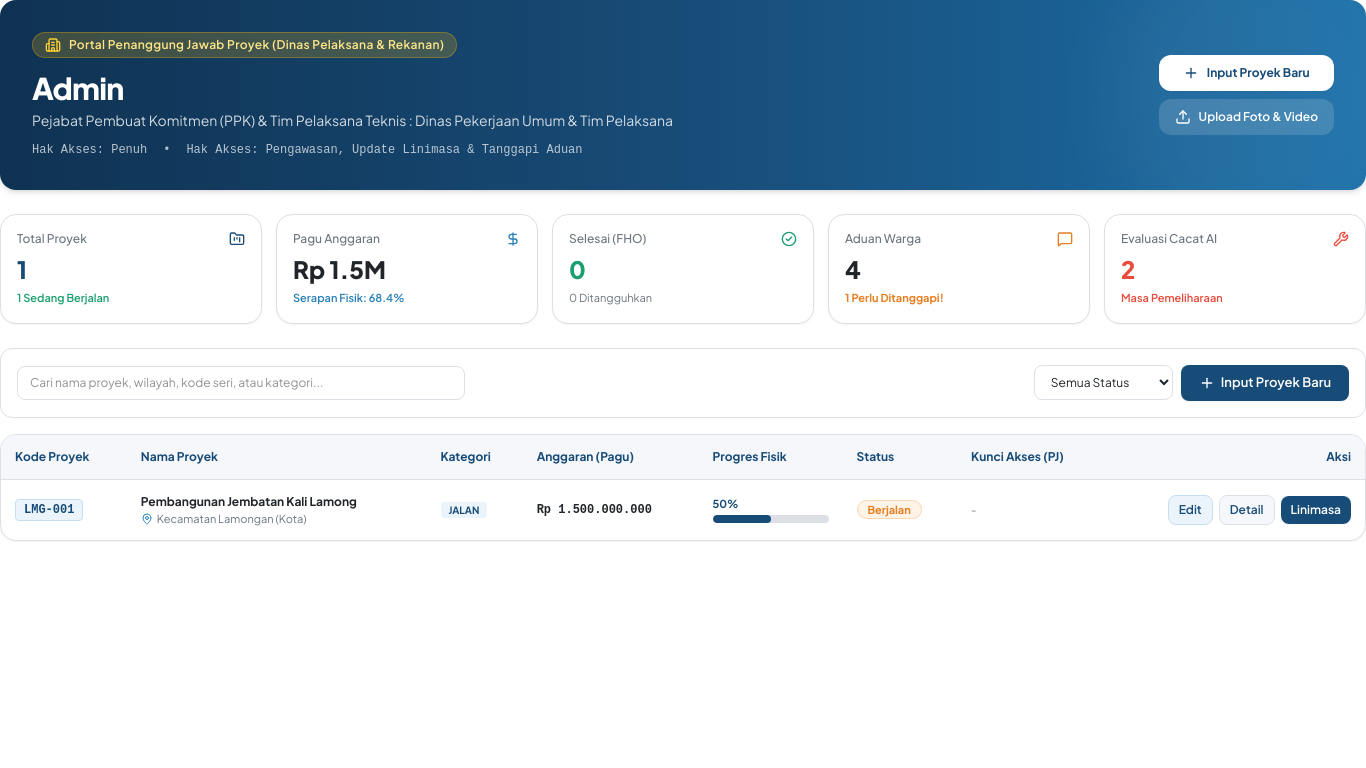
Scenario: AdminDinasDashboard Project Edit Validation › rejects submit on frontend when progress is decreased without valid reason (< 10 chars)
Click the button "Edit".
click(1190, 510)  # box 1168,495 -> 1213,525
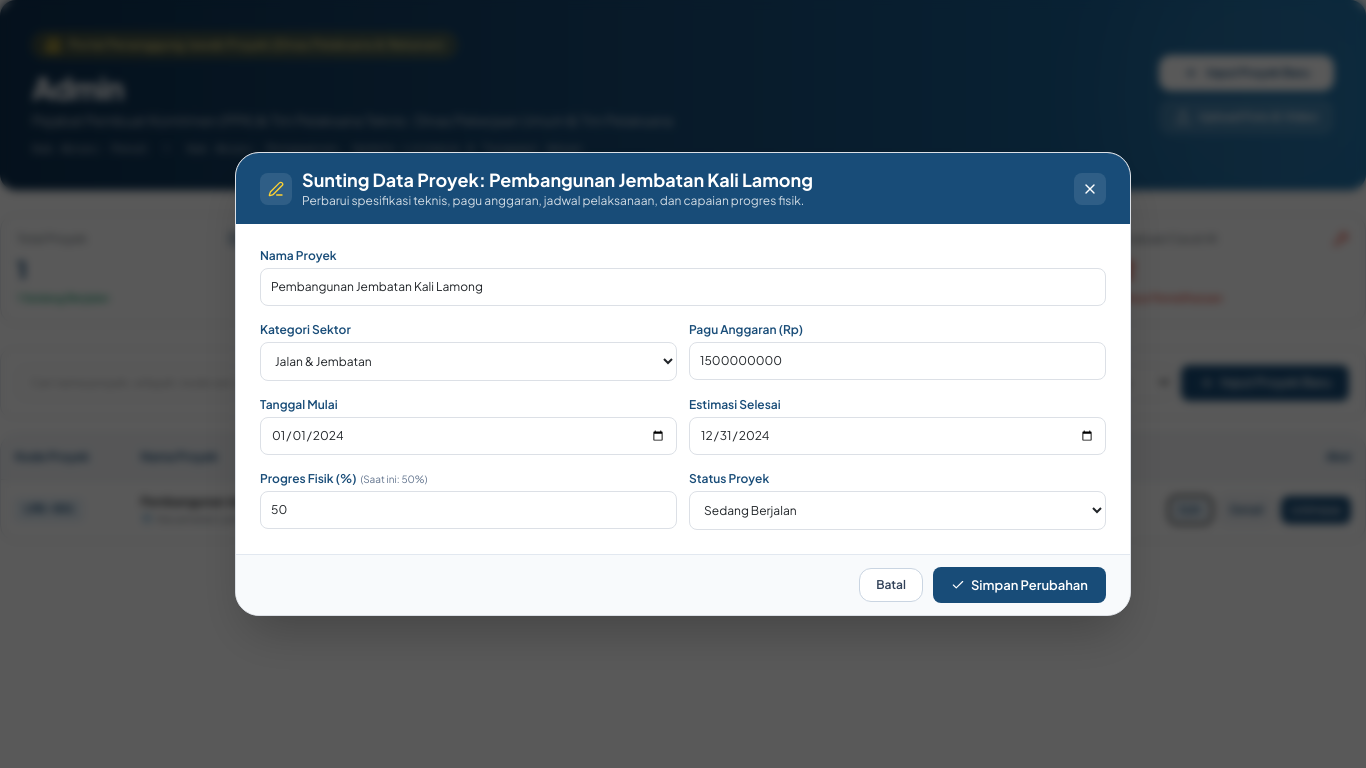
Clear the number field labelled "Progres Fisik (%)(Saat ini: 50%)" at (468, 510), box 260,491 -> 677,529
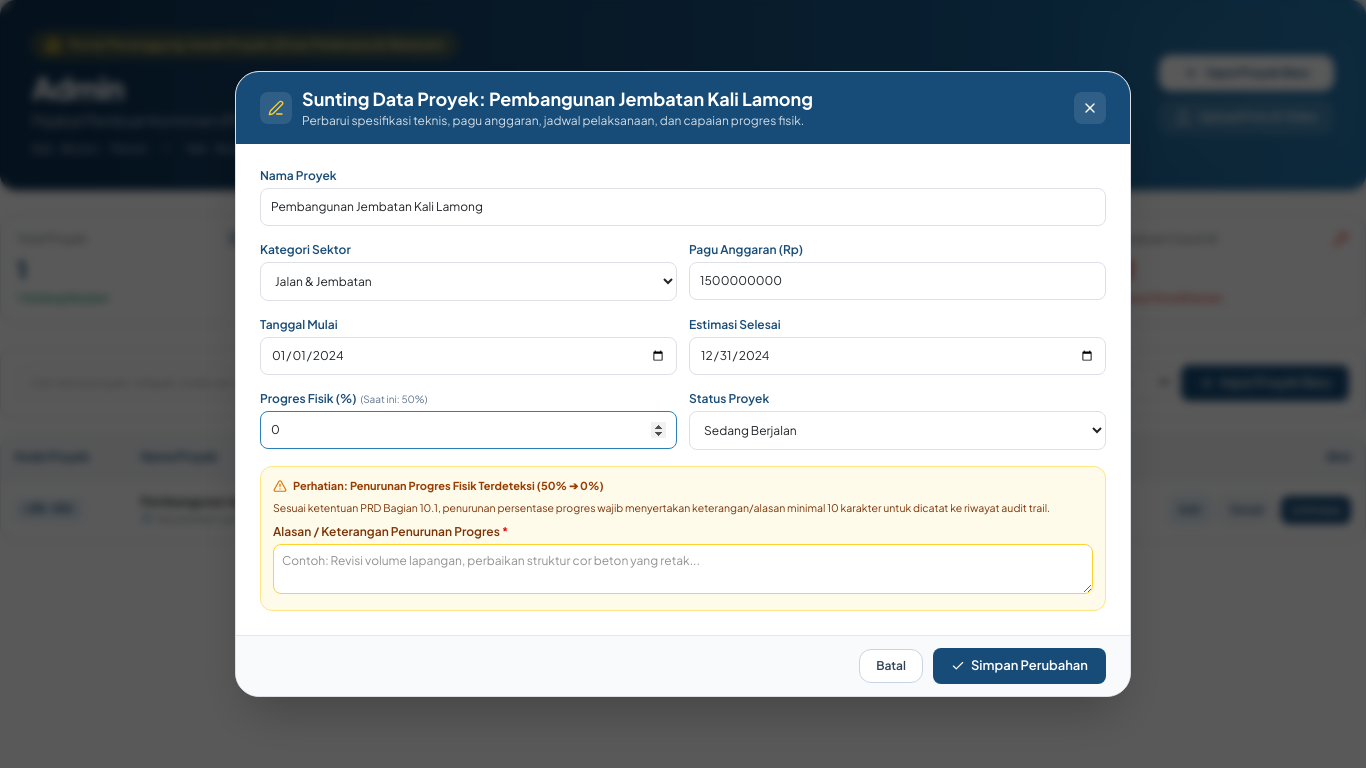
Type "35" into the number field labelled "Progres Fisik (%)(Saat ini: 50%)".
click(468, 430); type("35")  # box 260,411 -> 677,449
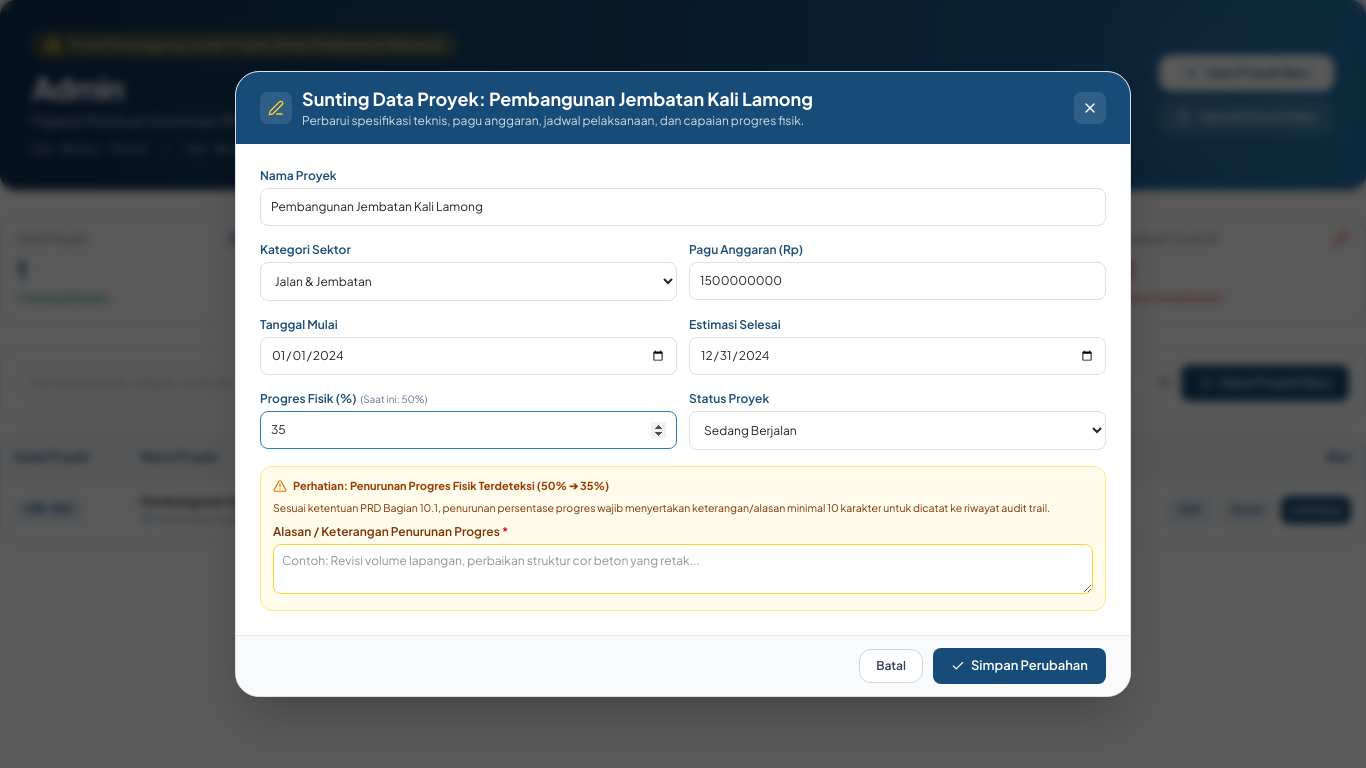
Result: the text "Perhatian: Penurunan Progres Fisik Terdeteksi (50% ➔ 35%)" is shown at 293,479 -> 609,493
Note: Coba submit dengan alasan kurang dari 10 karakter
Type "revisi" into the text box labelled "Alasan / Keterangan Penurunan Progres *".
click(683, 569); type("revisi")  # box 273,544 -> 1093,594
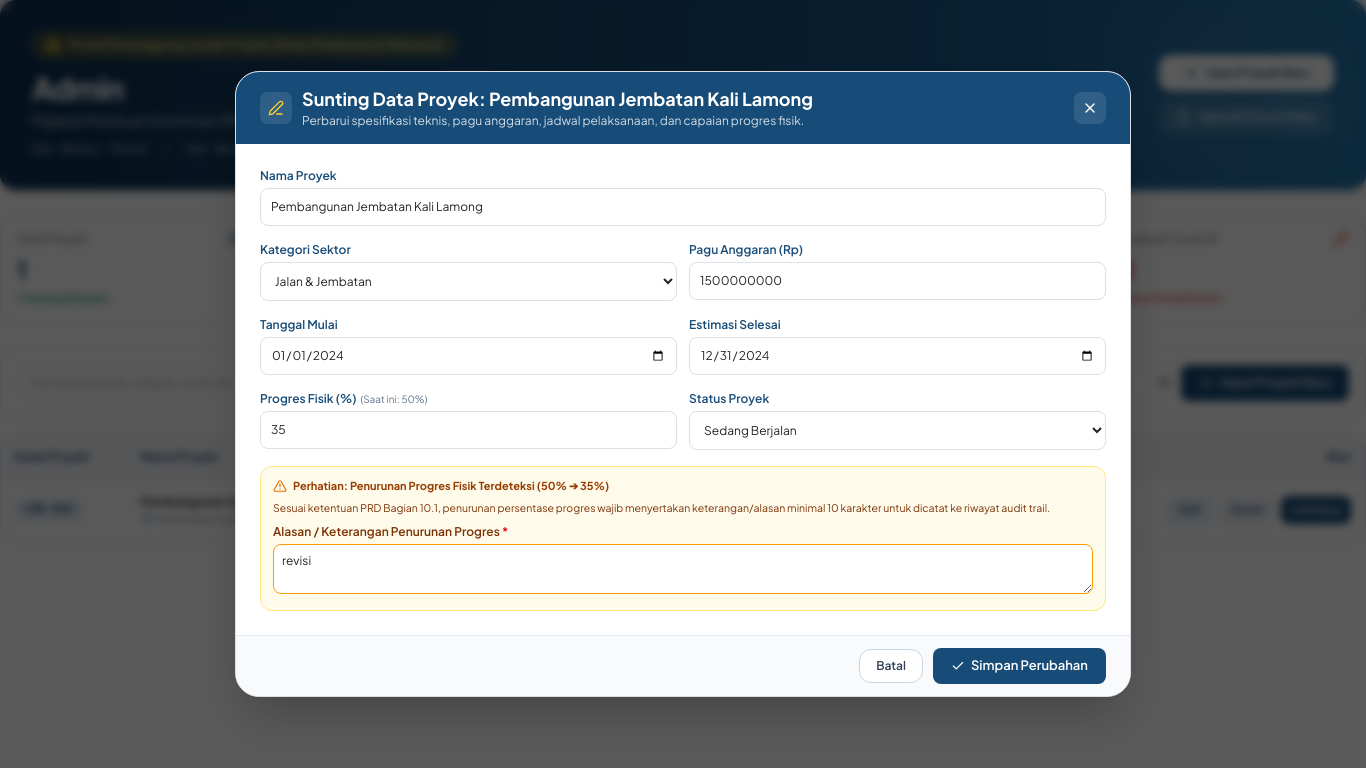
Click the button "Simpan Perubahan".
click(1019, 666)  # box 933,648 -> 1106,684
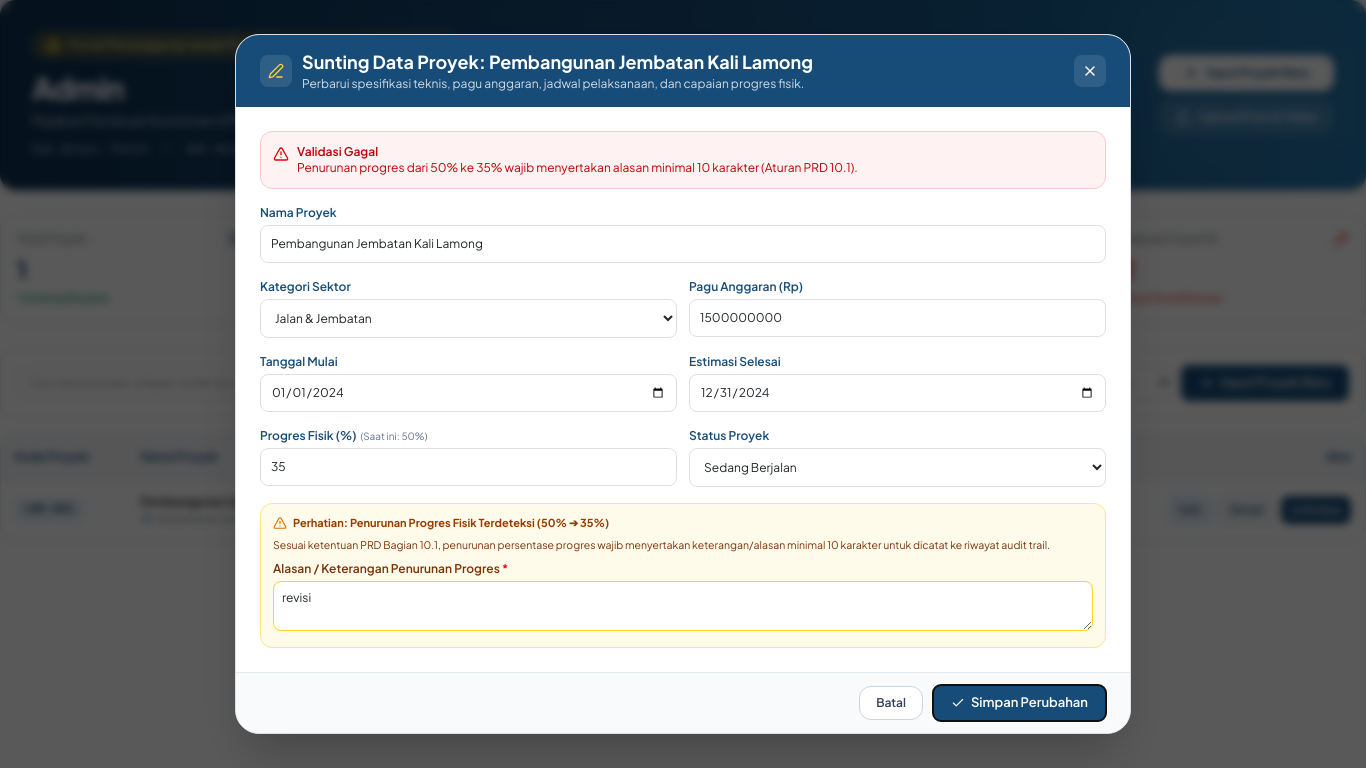
Result: the text "Penurunan progres dari 50% ke 35% wajib menyertakan alasan minimal 10 karakter" is shown at 297,160 -> 858,175
